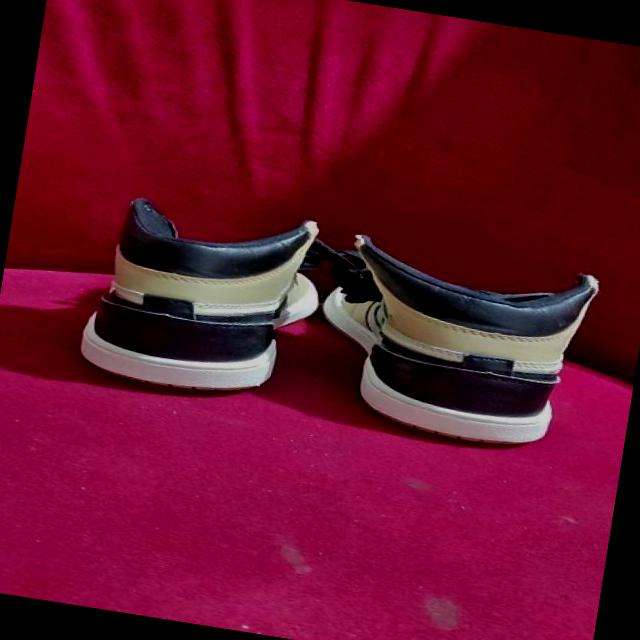nike_fake_jordan: (320, 228, 606, 460), (75, 182, 342, 414)
